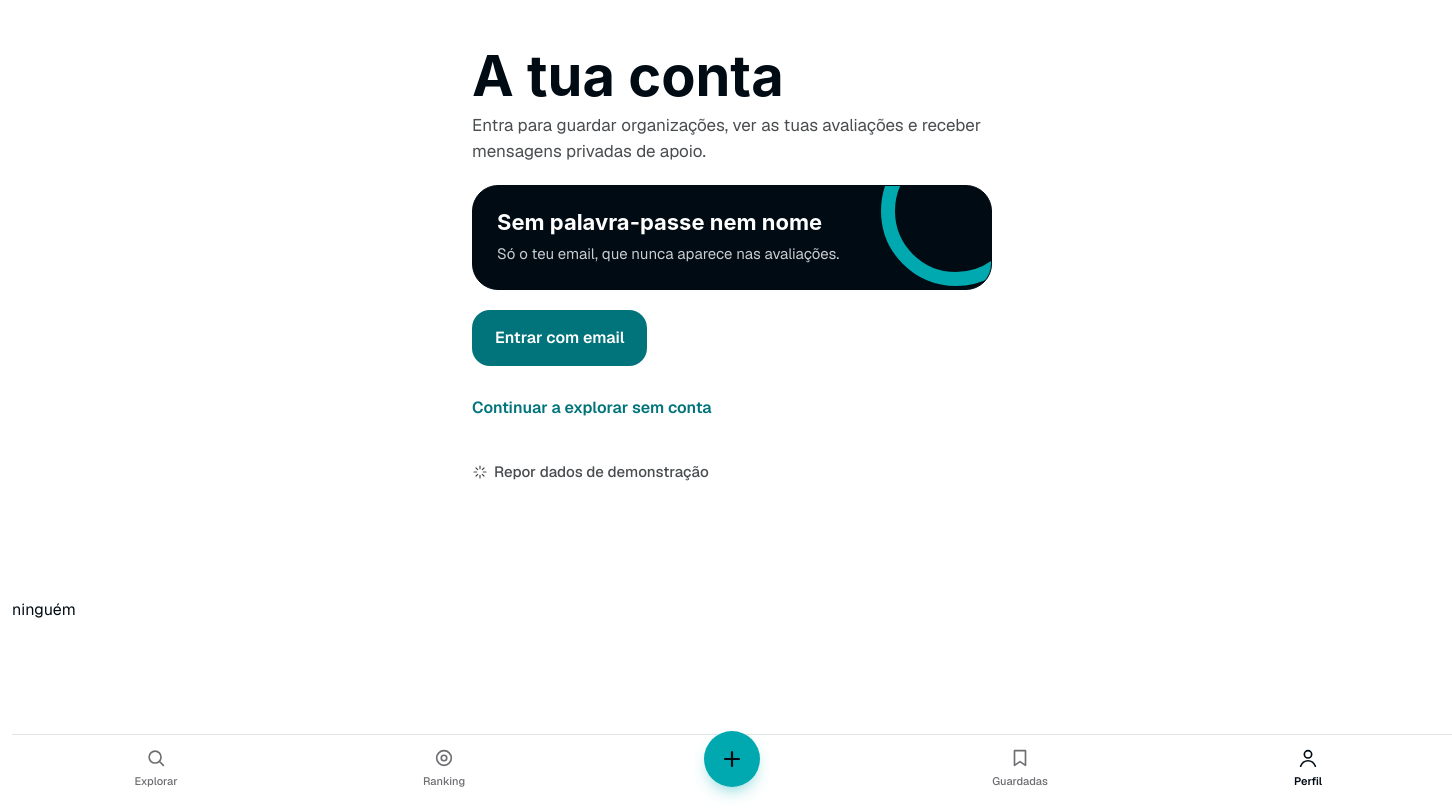
Perfil (mobile) › sem sessão: convite para entrar, explorar e repor a demonstração
expect the heading "A tua conta" is shown: met, box [472,42,784,110]
expect the text "Sem palavra-passe nem nome" is shown: met, box [497,209,822,235]
Click the button "Repor dados de demonstração": [601, 472] box [472,450,992,494]
(page scrolled)
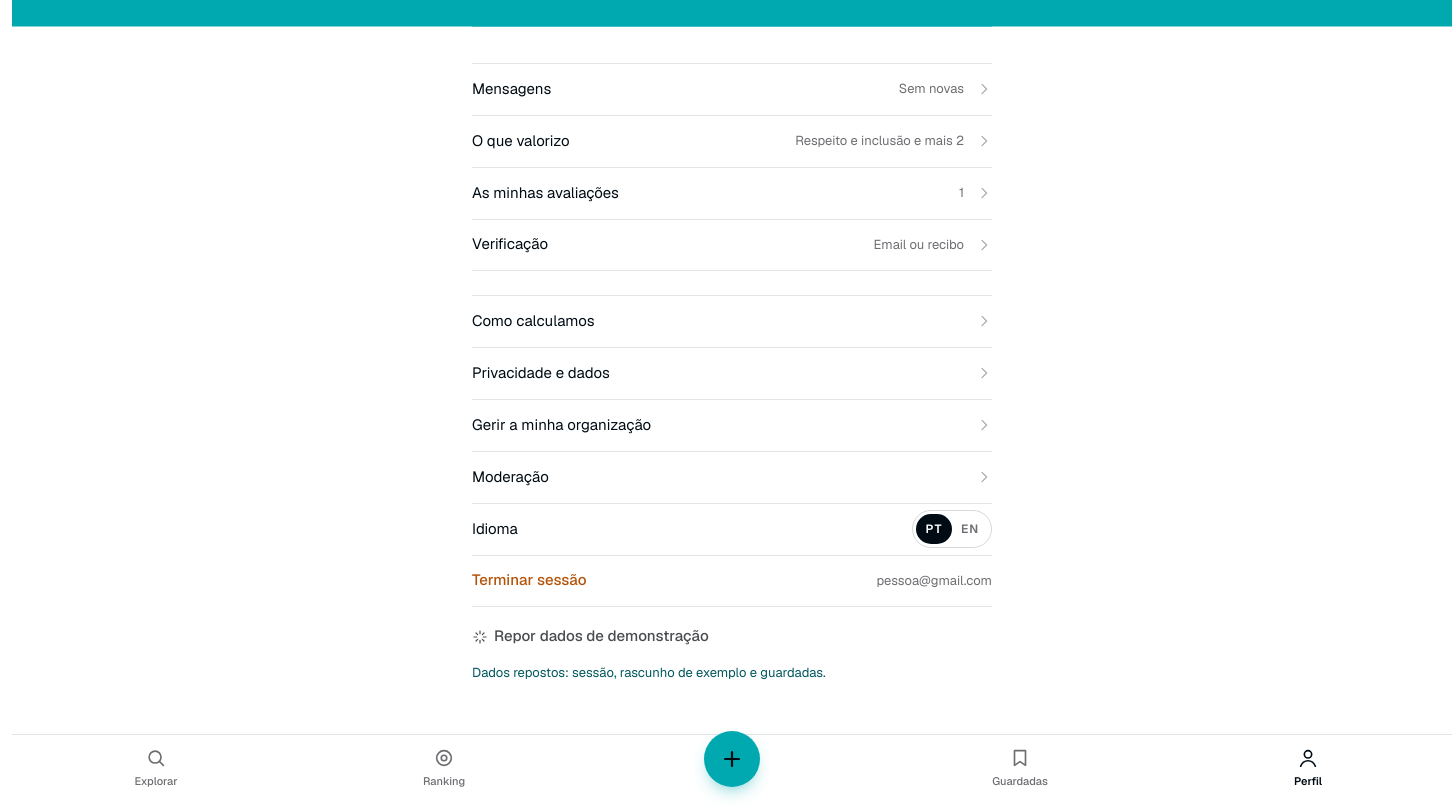
expect the text with test id "who" reads "pessoa@gmail.com": met, box [12,787,154,808]
expect the message reads "Dados repostos: sessão, rascunho de exemplo e guardadas.": met, box [472,664,826,680]
